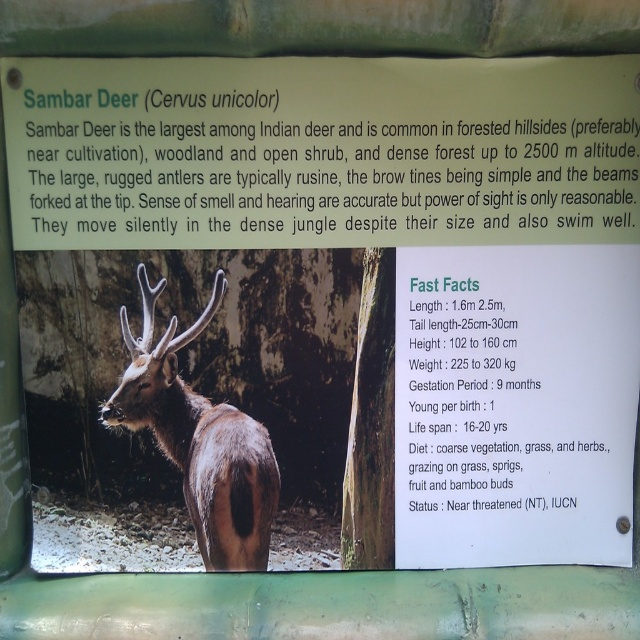Deer: (100, 264, 280, 571)
